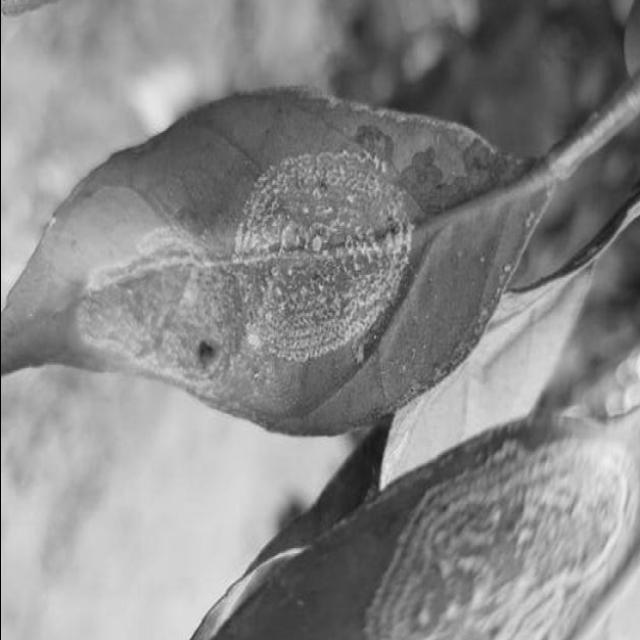Whitefly: (55, 141, 425, 433), (347, 430, 640, 640)
